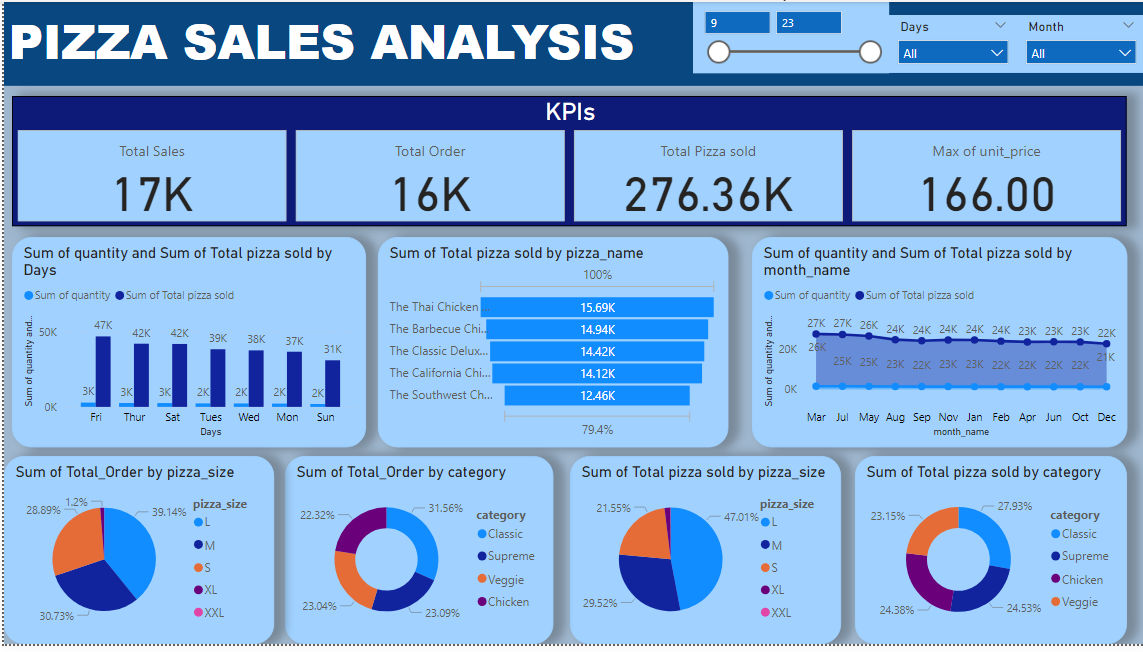

This screenshot's page, from the dashboard's own definition file:
{"tool":"powerbi","page":{"name":"Page 1","canvas":[1280,720],"ordinal":0},"visuals":[{"type":"textbox","box":[0,0,1279.6,94.2],"z":0},{"type":"cardVisual","title":"KPIs","fields":{"Data":["Sum(export.quantity)","Sum(export.order_id)","Sum(export.Total pizza sold)","Max(export.unit_price)"]},"box":[9,105.4,1250.5,145.8],"z":1000},{"type":"stackedAreaChart","fields":{"Category":["export.month_name"],"Y":["Sum(export.quantity)","Sum(export.Total pizza sold)"]},"box":[838.9,263.6,420.6,235.5],"z":2000},{"type":"clusteredColumnChart","fields":{"Category":["export.Days"],"Y":["Sum(export.quantity)","Sum(export.Total pizza sold)"]},"box":[9,263.6,397,235.5],"z":3000},{"type":"pieChart","fields":{"Y":["Sum(export.Total pizza sold)"],"Series":["export.pizza_size"]},"box":[634.8,509.2,303.9,210.8],"z":4000},{"type":"donutChart","fields":{"Y":["Sum(export.Total_Order)"],"Category":["export.pizza_category"]},"box":[315.1,509.2,300.6,210.8],"z":5000},{"type":"donutChart","fields":{"Y":["Sum(export.Total pizza sold)"],"Category":["export.pizza_category"]},"box":[954.4,509.2,305,210.8],"z":6000},{"type":"pieChart","fields":{"Y":["Sum(export.Total_Order)"],"Series":["export.pizza_size"]},"box":[0,509.2,302.8,210.8],"z":7000},{"type":"funnel","fields":{"Category":["export.pizza_name"],"Y":["Sum(export.Total pizza sold)"]},"box":[419.4,263.6,392.5,235.5],"z":8000},{"type":"slicer","fields":{"Values":["export.month_name"]},"box":[1136.2,14.1,143.8,65.5],"z":9000},{"type":"slicer","fields":{"Values":["export.Days"]},"box":[992.4,14.1,143.8,65.5],"z":10000},{"type":"slicer","fields":{"Values":["export.order_time"]},"box":[772.9,0,219.5,79.6],"z":11000}]}

Visuals, with their boxes in screenshot pixels (x1, y1, x2, y2), scaled from the page's 1280x720 canvas onto the 1143x652 screenshot:
textbox: (0, 0, 1142, 85)
"KPIs" cardVisual: (8, 95, 1125, 227)
stackedAreaChart - export.month_name x Sum(export.quantity): (749, 239, 1125, 452)
clusteredColumnChart - export.Days x Sum(export.quantity): (8, 239, 363, 452)
pieChart - Sum(export.Total pizza sold) x export.pizza_size: (567, 461, 838, 651)
donutChart - Sum(export.Total_Order) x export.pizza_category: (281, 461, 550, 651)
donutChart - Sum(export.Total pizza sold) x export.pizza_category: (852, 461, 1125, 651)
pieChart - Sum(export.Total_Order) x export.pizza_size: (0, 461, 270, 651)
funnel - export.pizza_name x Sum(export.Total pizza sold): (375, 239, 725, 452)
slicer - export.month_name: (1015, 13, 1142, 72)
slicer - export.Days: (886, 13, 1015, 72)
slicer - export.order_time: (690, 0, 886, 72)
